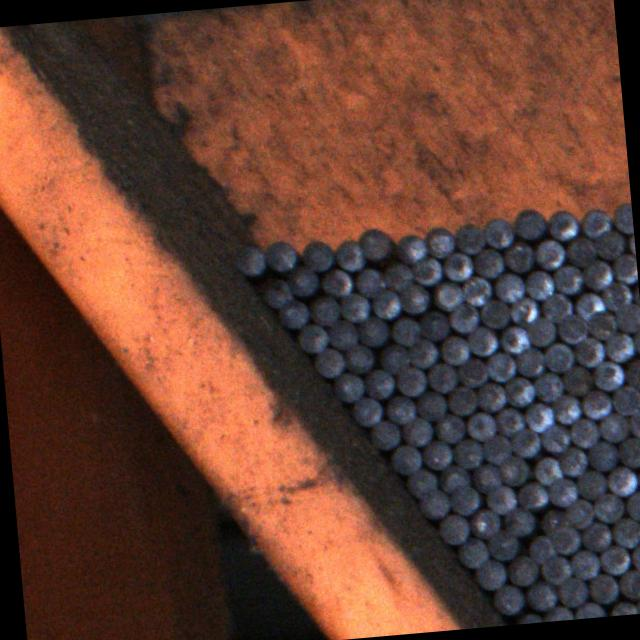tool: (451, 533, 490, 569), (254, 275, 292, 309), (523, 576, 557, 612), (416, 486, 450, 522), (436, 462, 473, 495), (506, 552, 540, 587), (434, 512, 469, 546), (567, 416, 602, 450), (382, 392, 416, 427), (412, 388, 447, 422), (276, 296, 310, 331), (306, 292, 341, 326), (492, 269, 526, 304), (232, 243, 267, 277), (490, 582, 524, 616), (472, 558, 506, 592), (454, 356, 488, 390), (300, 237, 334, 271), (392, 230, 426, 264), (452, 221, 486, 255), (404, 466, 439, 499), (442, 383, 477, 416), (484, 528, 520, 560), (446, 484, 482, 516), (544, 208, 580, 240), (580, 386, 614, 419), (484, 350, 518, 383), (417, 308, 451, 341), (448, 300, 481, 334), (532, 237, 566, 270), (563, 233, 597, 266), (482, 215, 516, 248), (501, 504, 536, 536), (420, 438, 452, 473), (393, 364, 428, 396), (375, 341, 410, 373), (386, 315, 421, 347), (317, 266, 352, 298), (368, 418, 401, 451), (523, 399, 556, 432), (349, 395, 382, 428), (331, 369, 364, 402), (285, 264, 318, 297), (586, 572, 618, 606), (599, 542, 631, 576), (580, 520, 614, 552), (466, 506, 500, 538), (482, 482, 516, 514), (604, 464, 638, 496), (586, 440, 620, 472), (480, 432, 512, 466), (560, 364, 594, 396), (424, 360, 458, 392), (602, 330, 636, 362), (342, 342, 376, 374), (324, 318, 358, 350), (478, 296, 510, 330), (351, 266, 385, 298), (514, 206, 546, 240), (496, 324, 532, 354), (562, 497, 595, 529), (576, 468, 608, 501), (389, 442, 422, 474), (538, 421, 570, 454), (598, 410, 630, 443), (362, 366, 394, 399), (541, 342, 574, 374), (466, 324, 499, 356), (555, 311, 588, 343), (571, 288, 604, 320), (368, 288, 401, 320), (460, 274, 493, 306), (524, 266, 556, 299), (552, 263, 584, 296), (380, 258, 413, 290), (410, 253, 442, 286), (441, 250, 474, 282), (475, 379, 506, 413), (471, 247, 505, 278), (555, 574, 587, 606), (538, 554, 570, 586), (592, 491, 624, 523), (498, 454, 530, 486), (530, 454, 562, 486), (450, 438, 482, 470), (508, 426, 540, 458), (531, 370, 563, 402), (312, 345, 344, 377), (407, 336, 439, 368), (508, 294, 540, 326), (502, 240, 534, 272), (358, 227, 390, 259), (423, 226, 455, 258), (579, 206, 611, 238), (540, 292, 574, 322), (432, 278, 462, 312), (568, 548, 600, 579), (550, 523, 581, 555), (547, 475, 579, 506), (557, 446, 588, 478), (464, 410, 496, 441), (593, 359, 624, 391), (586, 308, 617, 340), (295, 322, 327, 353), (357, 314, 388, 346), (398, 282, 429, 314), (264, 239, 296, 270), (610, 514, 640, 547), (515, 480, 548, 510), (471, 461, 501, 494), (433, 412, 464, 443), (525, 315, 556, 346), (400, 416, 432, 446), (610, 383, 640, 415), (514, 346, 544, 378), (600, 280, 632, 310), (581, 258, 613, 288), (594, 228, 626, 258), (334, 238, 364, 270), (504, 375, 534, 406), (574, 336, 604, 367), (438, 334, 469, 364), (339, 292, 370, 322), (609, 252, 638, 284), (494, 406, 524, 435), (552, 394, 581, 424), (525, 534, 555, 562), (614, 301, 640, 333), (610, 202, 634, 236), (616, 434, 640, 466), (616, 568, 640, 599), (536, 510, 564, 536), (620, 356, 640, 390), (573, 600, 604, 619), (607, 597, 638, 616), (623, 489, 640, 521), (544, 604, 573, 622), (627, 408, 640, 439), (630, 540, 640, 572), (634, 461, 640, 493)
